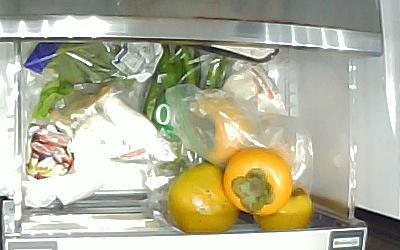persimmon: (168, 163, 241, 234), (223, 149, 296, 216), (254, 185, 315, 232)
persimmon_vinyl: (190, 97, 253, 166)
